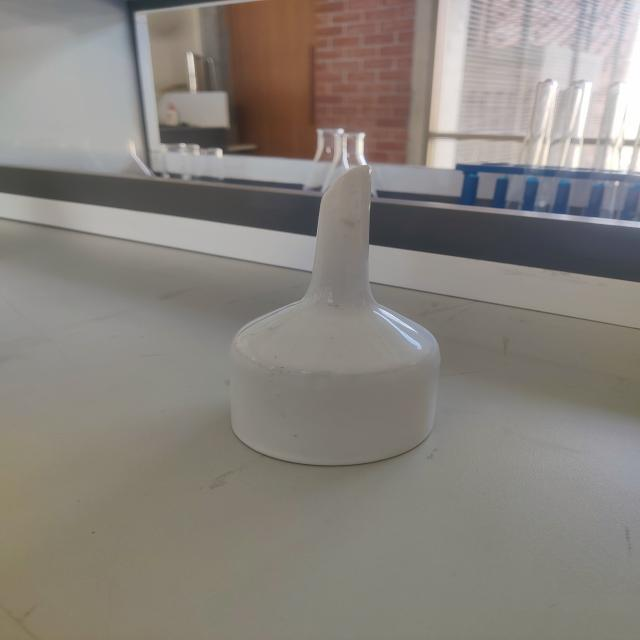Buchner_Funnel: (210, 146, 464, 495)
